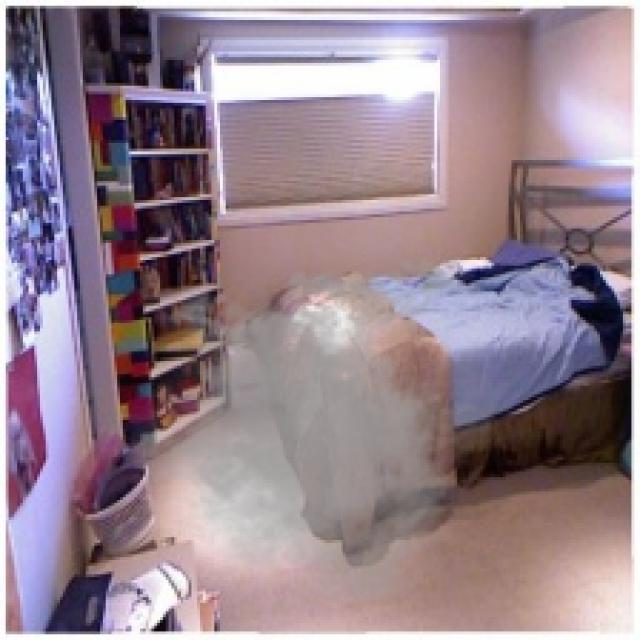Smoke: (111, 248, 518, 608)
